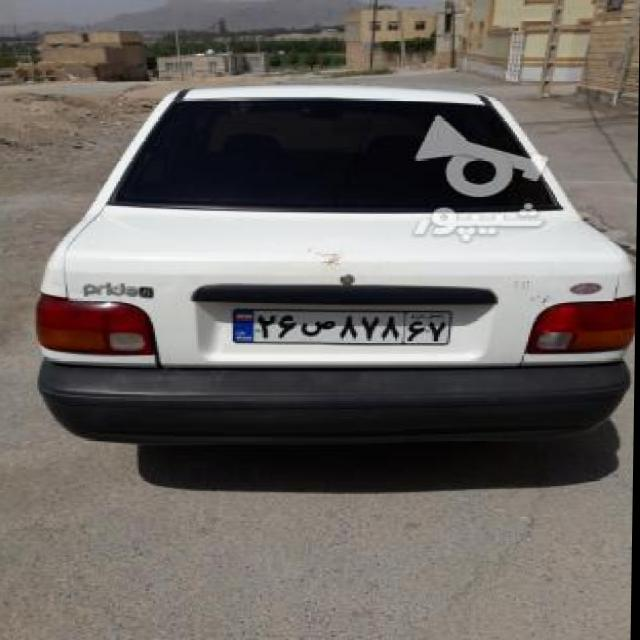licence: (228, 304, 448, 344)
